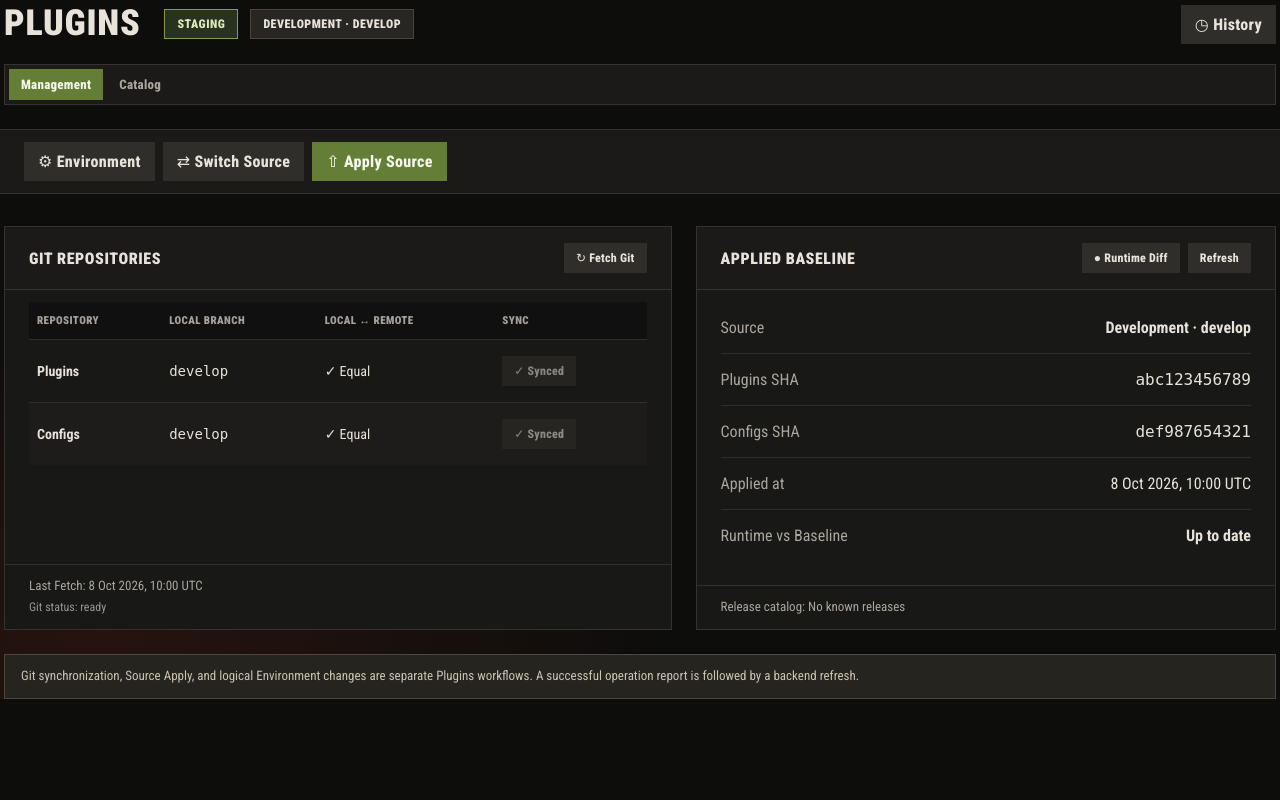
Test: Plugins management workflows › confirms the target Environment, sends the published request, and refreshes it
This screenshot has width=1280, height=800.
Click the button "⚙ Environment" at (89, 162), box [24,142,155,181]
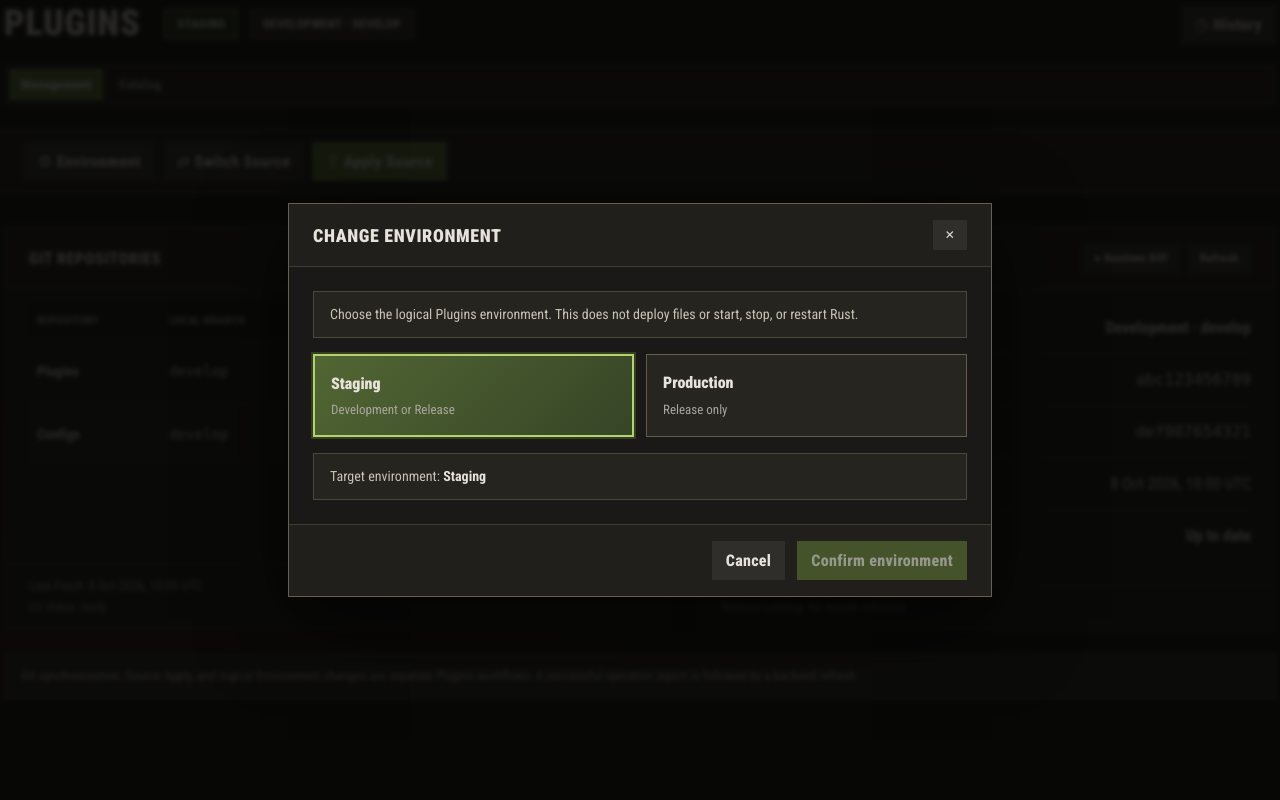
Click the button "Production Release only" at (698, 382), box [646,354,967,437]
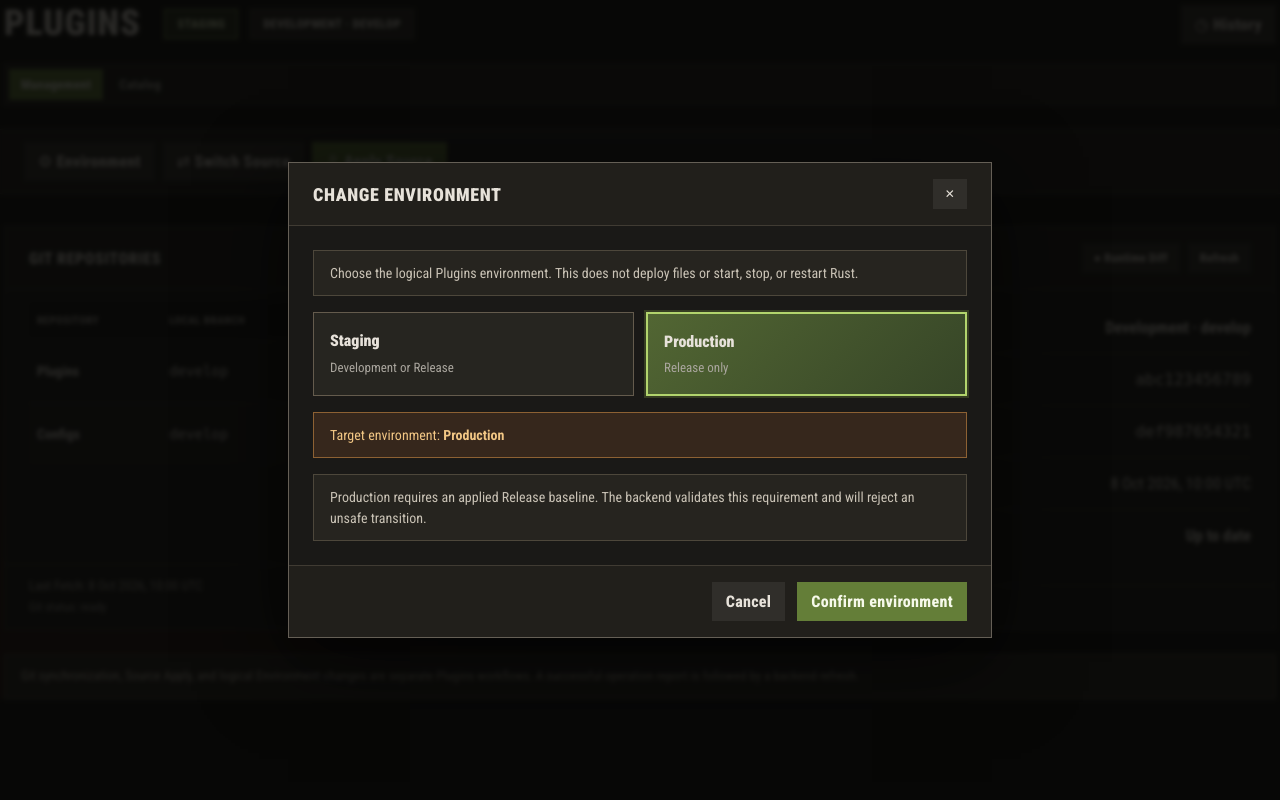
Now the text "Target environment: Production" is shown, box [313,412,967,458]
Click the button "Confirm environment" at (882, 601), box [797,582,967,621]
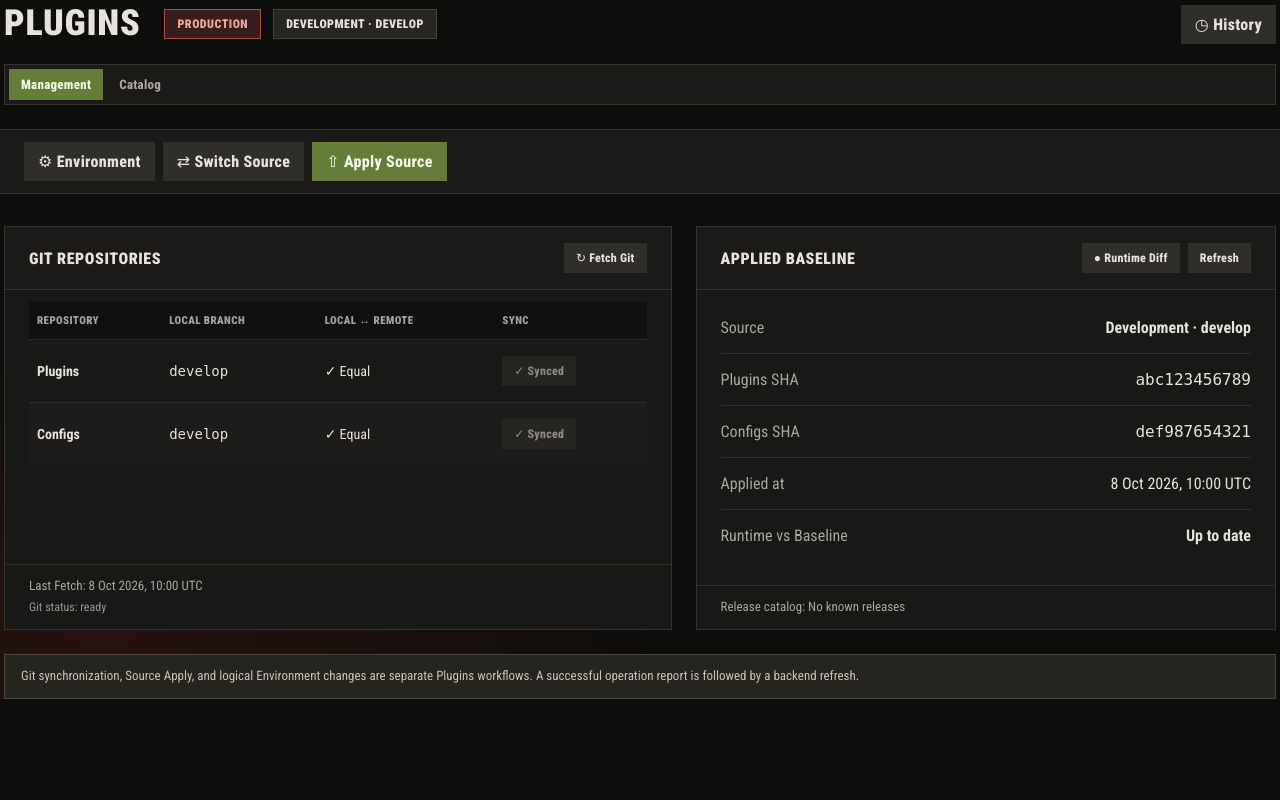
Now the dialog is gone
